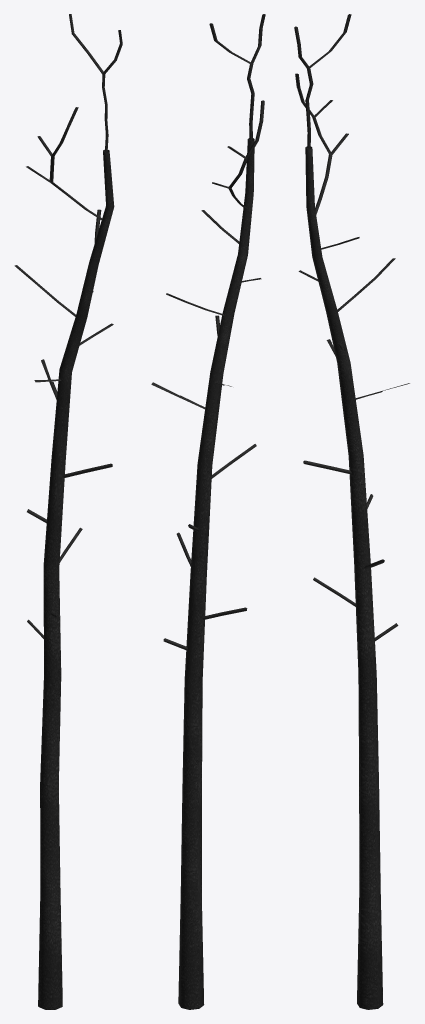
Rendered from A_DeciduousDead2_28.glb.
3 views of the same model, side by side, from view 1: azimuth 90°, elevation 25°; view 2: azimuth 150°, elevation 25°; view 3: azimuth 330°, elevation 25° (orthographic).
Visible parts, largest first — view 1: DeciduousDead2_28; view 2: DeciduousDead2_28; view 3: DeciduousDead2_28.
Part boxes in pixels (x1,y1,x2,y2): DeciduousDead2_28: [14, 14, 122, 1009]; DeciduousDead2_28: [151, 14, 265, 1009]; DeciduousDead2_28: [294, 14, 409, 1009].
Size of the model in its own units: 1.42 by 13.51 by 1.33.
Materials: 1 (1 with a texture image).
